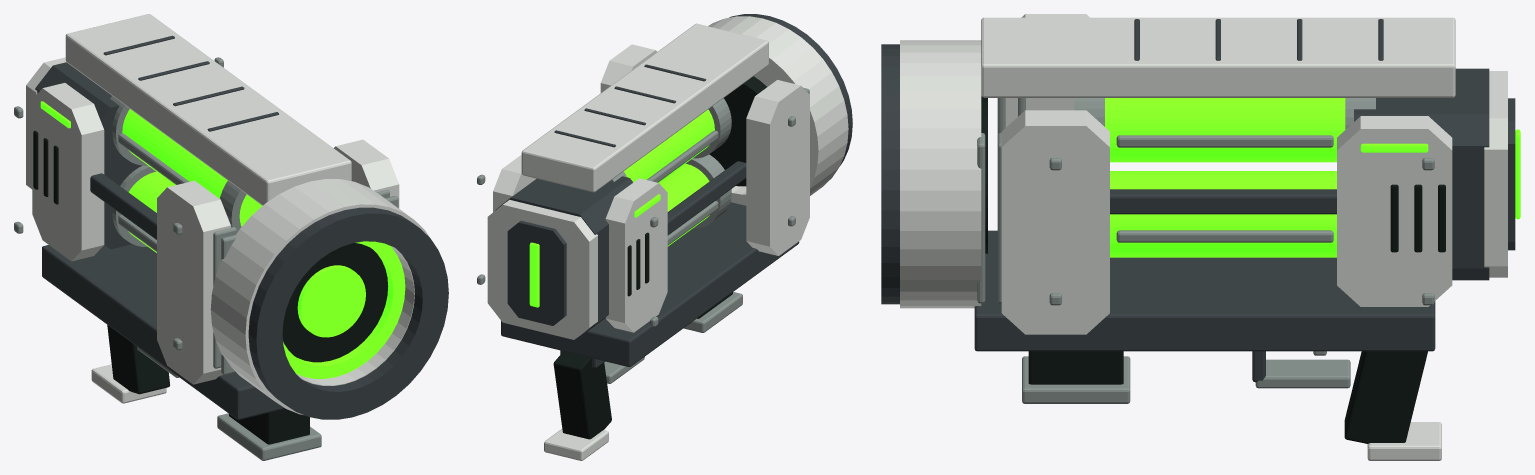
Rendered from forge-plasma-lod0.glb.
3 views of the same model, side by side, from view 1: azimuth 30°, elevation 25°; view 2: azimuth 150°, elevation 25°; view 3: azimuth 270°, elevation 25° (orthographic). The views are drawn at different scales.
Visible parts, largest first — view 1: forge ceramic geometry, forge graphite geometry, forge plasma green geometry, forge bore rubber geometry, forge steel geometry; view 2: forge ceramic geometry, forge graphite geometry, forge bore rubber geometry, forge steel geometry, forge plasma green geometry; view 3: forge ceramic geometry, forge graphite geometry, forge plasma green geometry, forge steel geometry, forge bore rubber geometry.
Part boxes in pixels (x1,y1,x2,y2): forge ceramic geometry: [26, 14, 429, 414]; forge graphite geometry: [35, 35, 448, 419]; forge plasma green geometry: [40, 101, 405, 378]; forge bore rubber geometry: [33, 130, 388, 444]; forge steel geometry: [14, 57, 398, 460]; forge ceramic geometry: [487, 16, 848, 460]; forge graphite geometry: [495, 14, 852, 368]; forge bore rubber geometry: [553, 76, 766, 439]; forge steel geometry: [477, 88, 809, 383]; forge plasma green geometry: [529, 109, 714, 307]; forge ceramic geometry: [900, 14, 1507, 460]; forge graphite geometry: [881, 19, 1515, 382]; forge plasma green geometry: [1105, 98, 1520, 257]; forge steel geometry: [977, 98, 1434, 403]; forge bore rubber geometry: [981, 96, 1445, 443].
Bounding box in the file's own units: 0.412 × 0.6685 × 0.9435.
